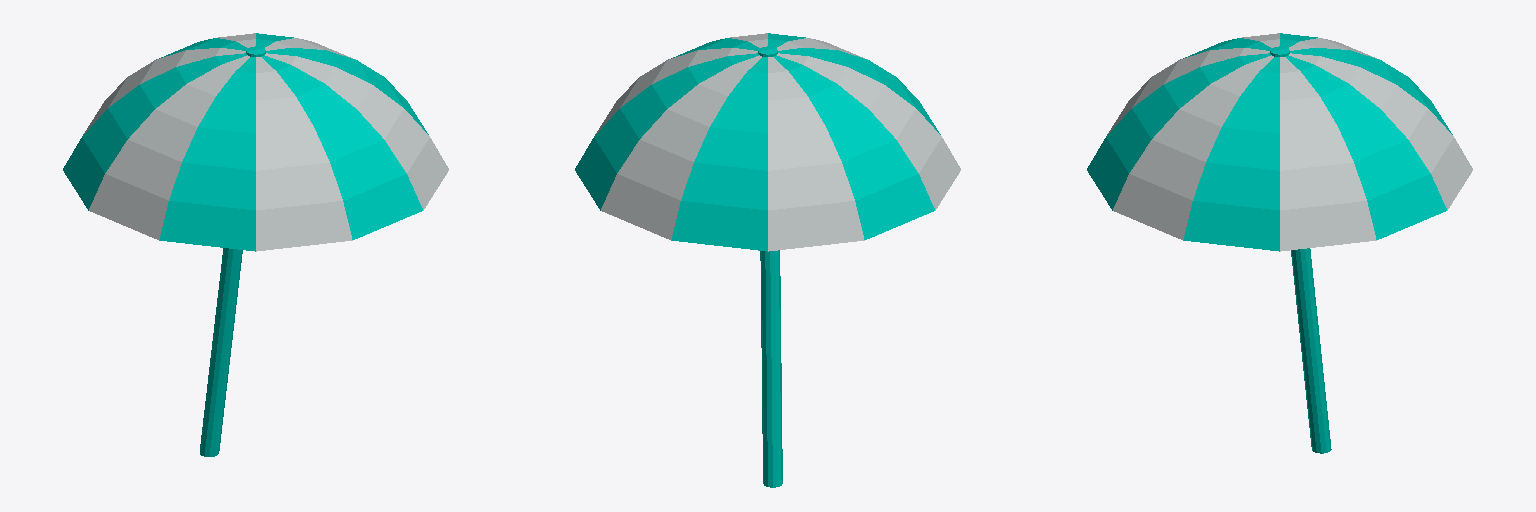
The model's file is beach_umbrella.obj.
3 renders of one model, left to right at view 1: azimuth 30°, elevation 25°; view 2: azimuth 150°, elevation 25°; view 3: azimuth 270°, elevation 25°, orthographic.
Parts seen in each view (by area): view 1: Sphere; view 2: Sphere; view 3: Sphere.
Boxes of the visible parts, x1,y1,x2,y2 form: Sphere: [63, 33, 448, 456]; Sphere: [575, 33, 960, 487]; Sphere: [1087, 33, 1472, 453].
Bounding box in the file's own units: 1.85 × 2.17 × 1.85.